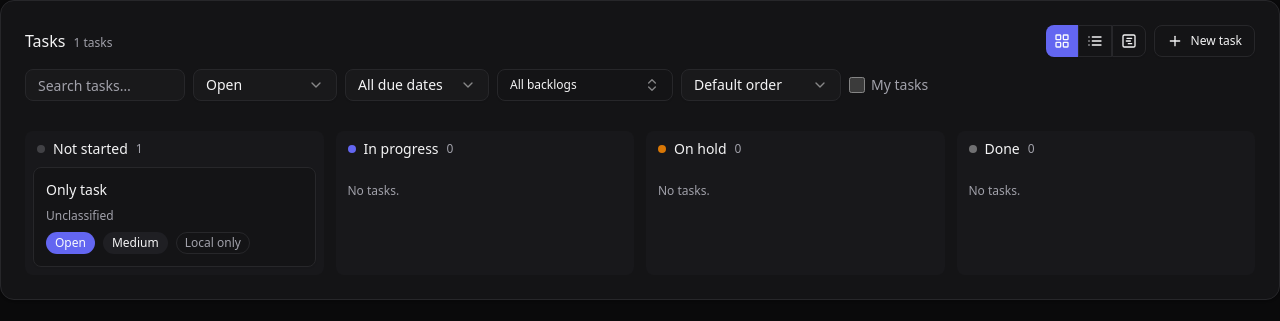
Test case: TaskListSection › offers selection even when the project has no backlogs (issue #149)
This screenshot has width=1280, height=321.
Step 1. Click the button named "List" → (1095, 41), box [1078,25,1112,57]
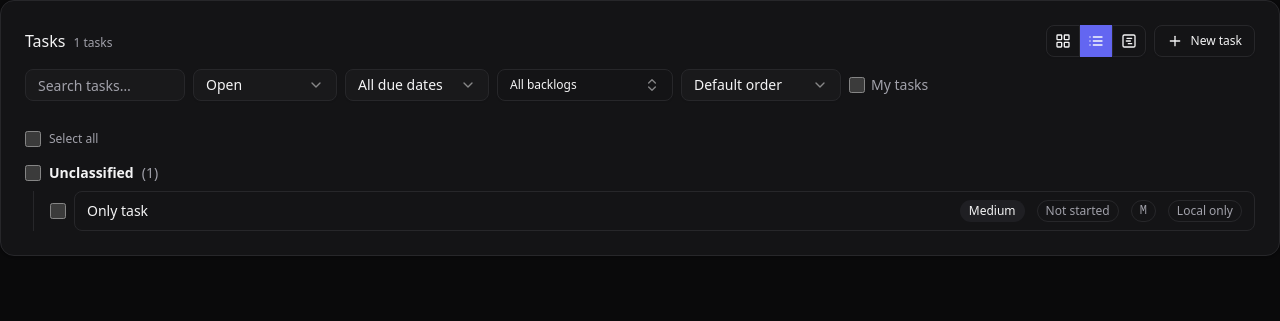
Expected: the checkbox named "Select Only task" is shown
Step 2. Click the checkbox named "Select Only task" → (58, 211), box [50,203,66,219]
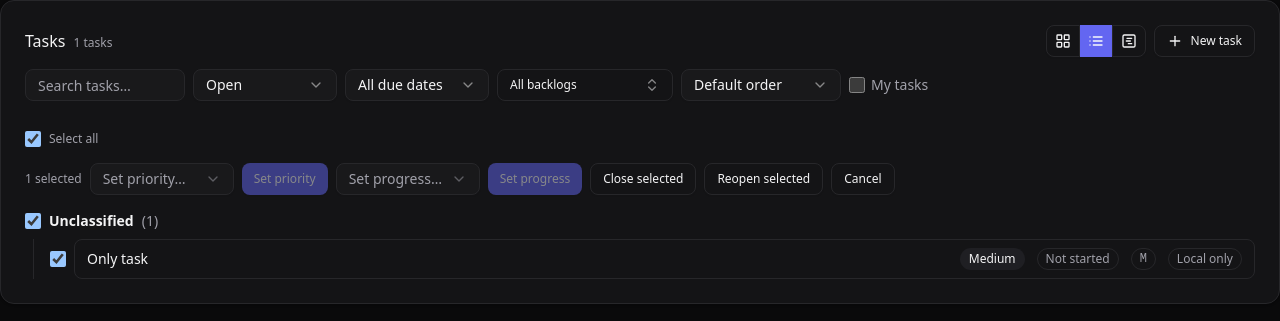
Expected: the text "1 selected" is shown, [25,171,82,187]
Expected: the button "Close selected" is shown, [590,163,696,195]
